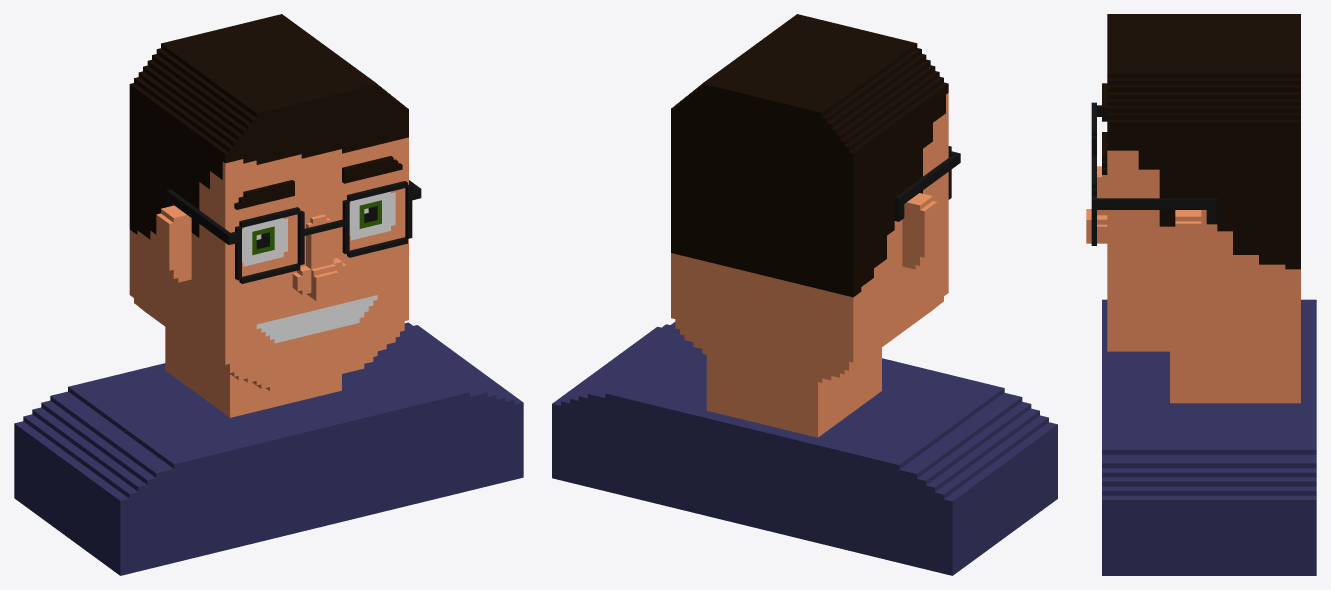
The picture shows the model from 3 angles, left to right: view 1: azimuth 30°, elevation 25°; view 2: azimuth 150°, elevation 25°; view 3: azimuth 270°, elevation 25°; orthographic projection.
Visible parts, largest first — view 1: Untitled; view 2: Untitled; view 3: Untitled.
Boxes of the visible parts, x1,y1,x2,y2 form: Untitled: (14, 14, 523, 575); Untitled: (552, 14, 1057, 575); Untitled: (1086, 14, 1316, 575).
Bounding box in the file's own units: 9 × 9.1 × 4.4.
Materials: 1 (1 with a texture image).
